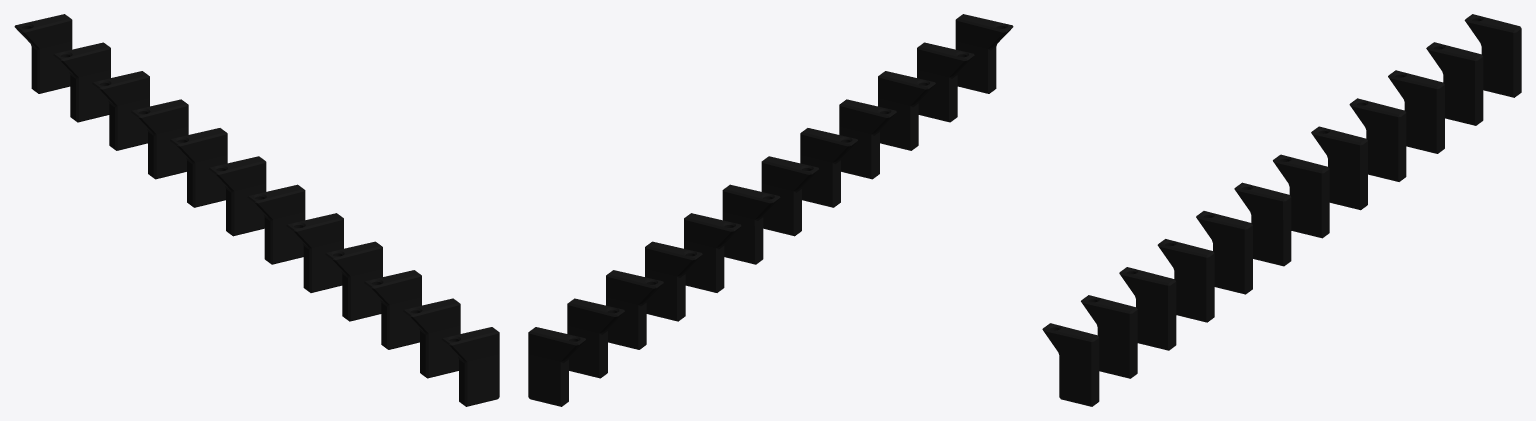
Rendered from armrest12.fbx.
3 renders of one model, left to right at view 1: azimuth 30°, elevation 25°; view 2: azimuth 150°, elevation 25°; view 3: azimuth 330°, elevation 25°, orthographic.
Parts seen in each view (by area): view 1: ArmRest.006; view 2: ArmRest.006; view 3: ArmRest.006.
Part boxes in pixels (<box>): ArmRest.006: <box>14,14,499,406</box>; ArmRest.006: <box>528,14,1013,406</box>; ArmRest.006: <box>1042,14,1521,406</box>.
Size of the model in its own units: 153 by 194 by 2248.
